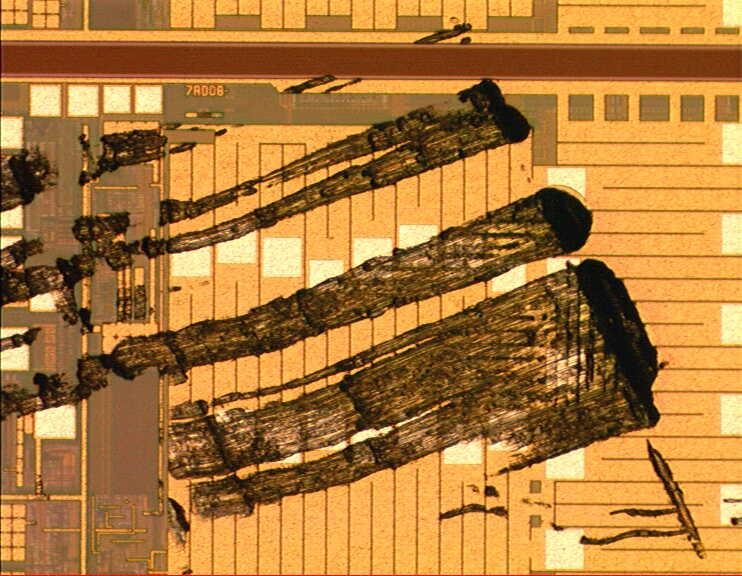SCRATCH: (1, 21, 742, 576)
